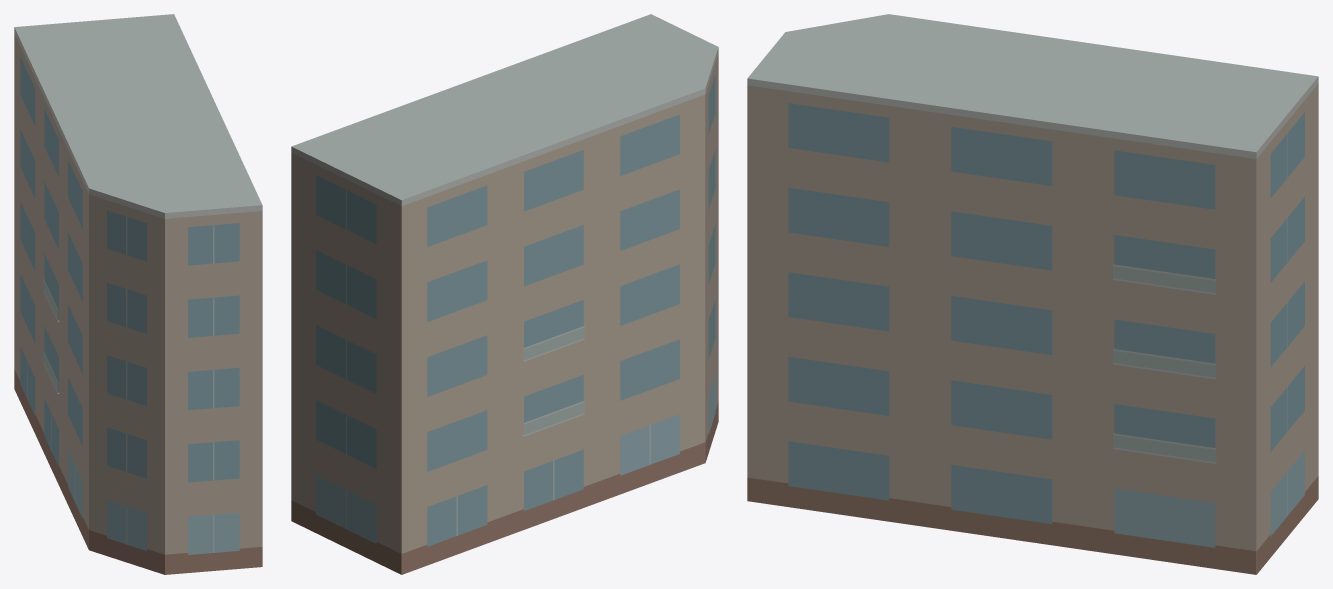
Rendered from survey-upis-32949411.glb.
3 views of the same model, side by side, from view 1: azimuth 30°, elevation 25°; view 2: azimuth 150°, elevation 25°; view 3: azimuth 270°, elevation 25° (orthographic). The views are drawn at different scales.
Parts seen in each view (by area): view 1: survey-upis-32949411.tmp; view 2: survey-upis-32949411.tmp; view 3: survey-upis-32949411.tmp.
Boxes of the visible parts, bbox=[...] form: survey-upis-32949411.tmp: bbox=[14, 14, 262, 574]; survey-upis-32949411.tmp: bbox=[291, 14, 718, 574]; survey-upis-32949411.tmp: bbox=[747, 14, 1318, 574].
Size of the model in its own units: 10.67 by 15.2 by 18.63.
